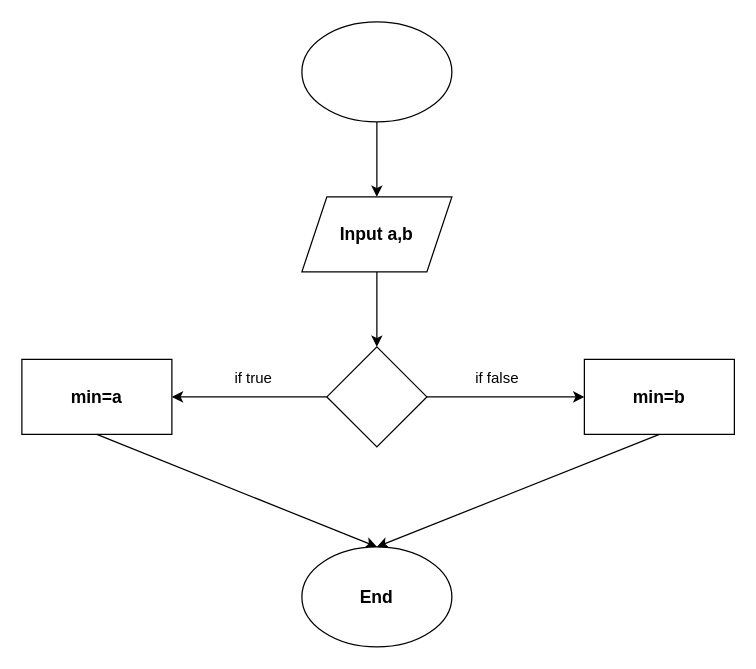
Image size: 756x669. Some labels were removed from this diagram. Here are the shapes that lost their labels. From the top down, the centre of each, then its label:
[376,71]: Start
[376,396]: a<b
